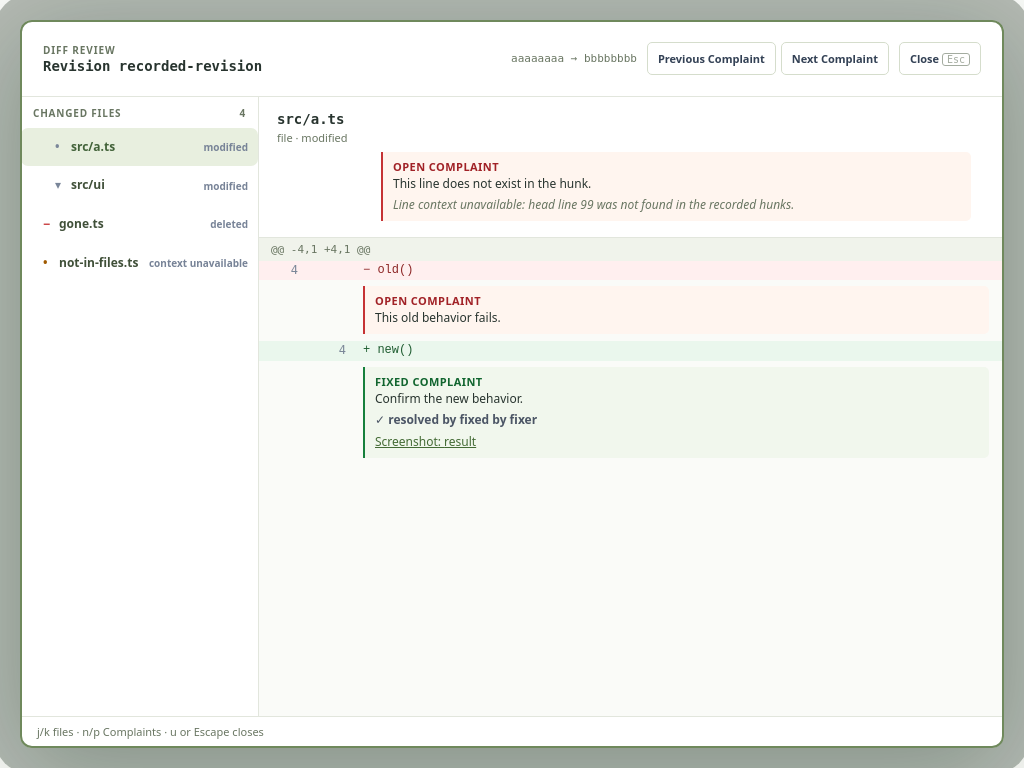
Test case: DiffViewer › shows a synthetic missing anchor and unavailable line context without guessing
Click the button "• not-in-files.ts context unavailable": [140, 263] box [21,244,258,283]
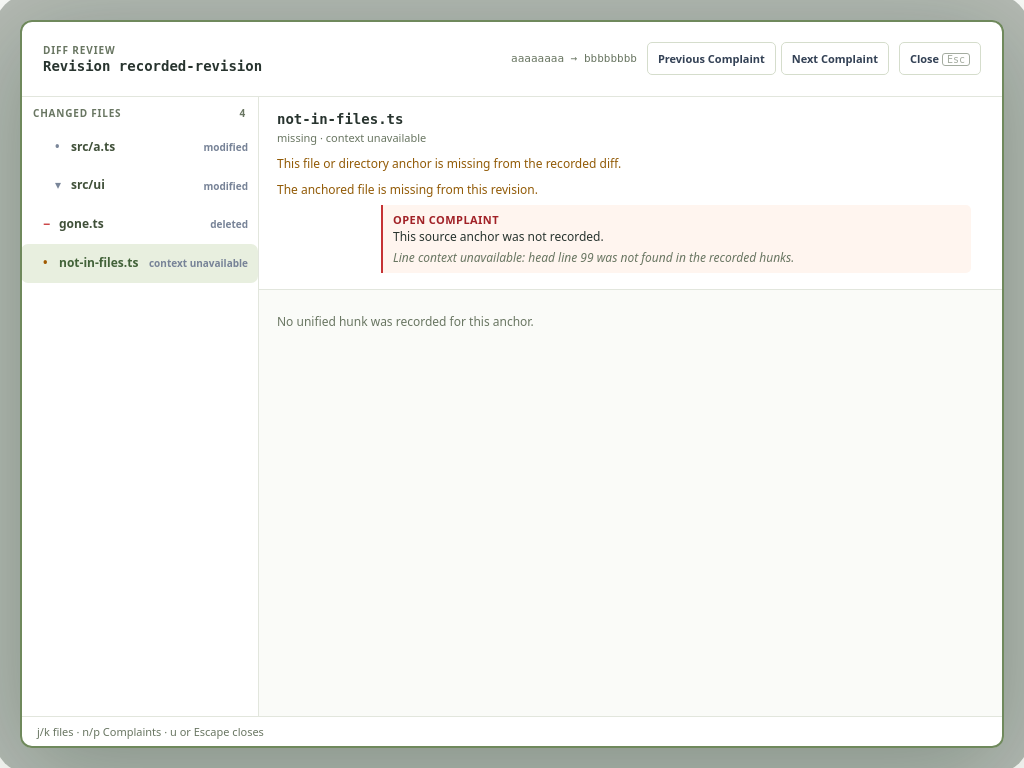
Now the text "This source anchor was not recorded." is shown, box [393,228,604,245]
Now the text "file or directory anchor is missing" is shown, box [277,155,621,172]
Click the button "• src/a.ts modified": [140, 147] box [21,128,258,166]
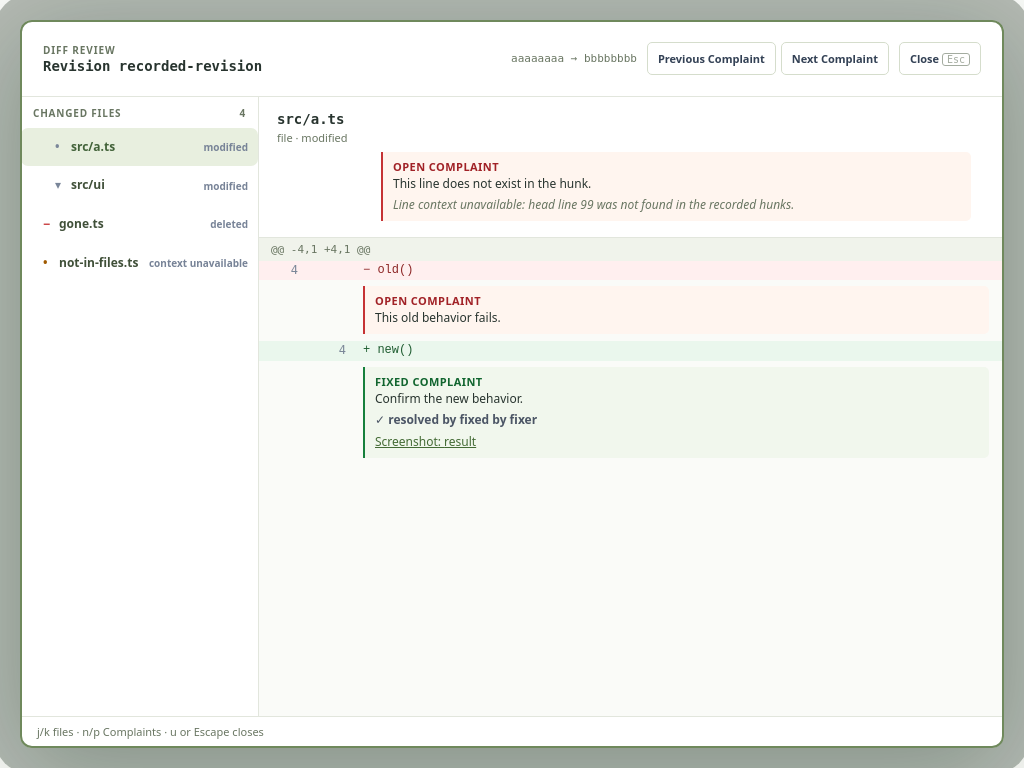
Expected: the text "head line 99 was not found" is shown, [393,196,794,213]
Now the text "This line does not exist in the hunk." is shown, box [393,175,591,192]
